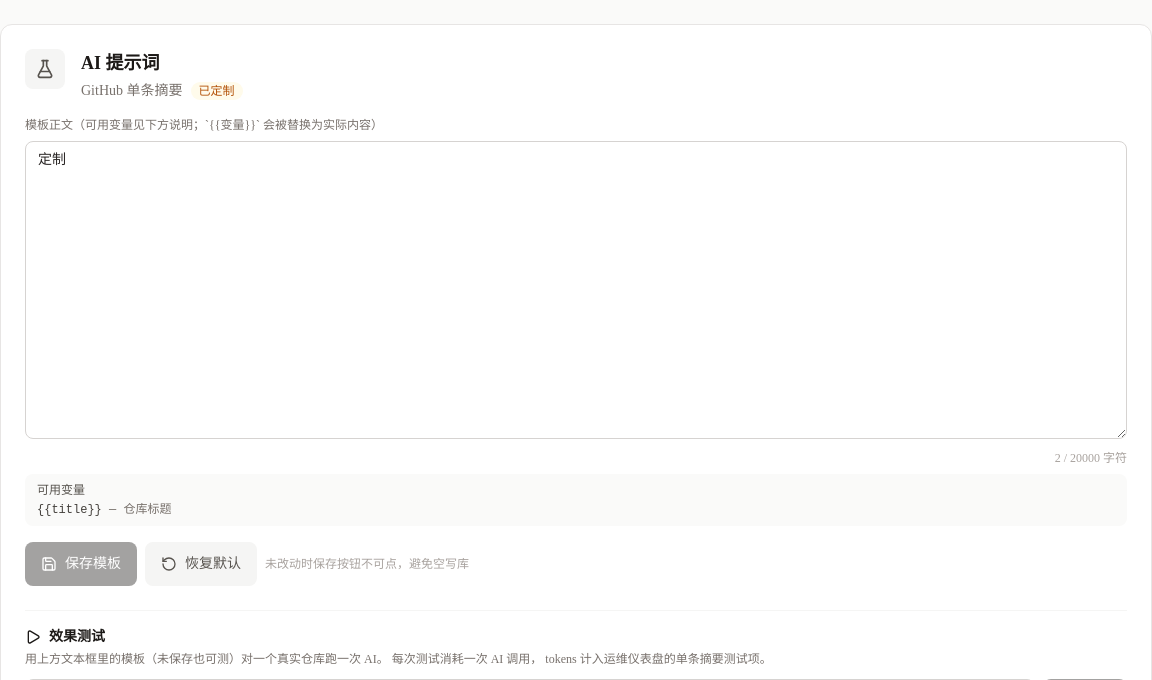
Test: PromptEditor › 已定制时可恢复默认
Click the button "恢复默认". click: {"x": 201, "y": 564}
box: left=145, top=542, right=257, bottom=586
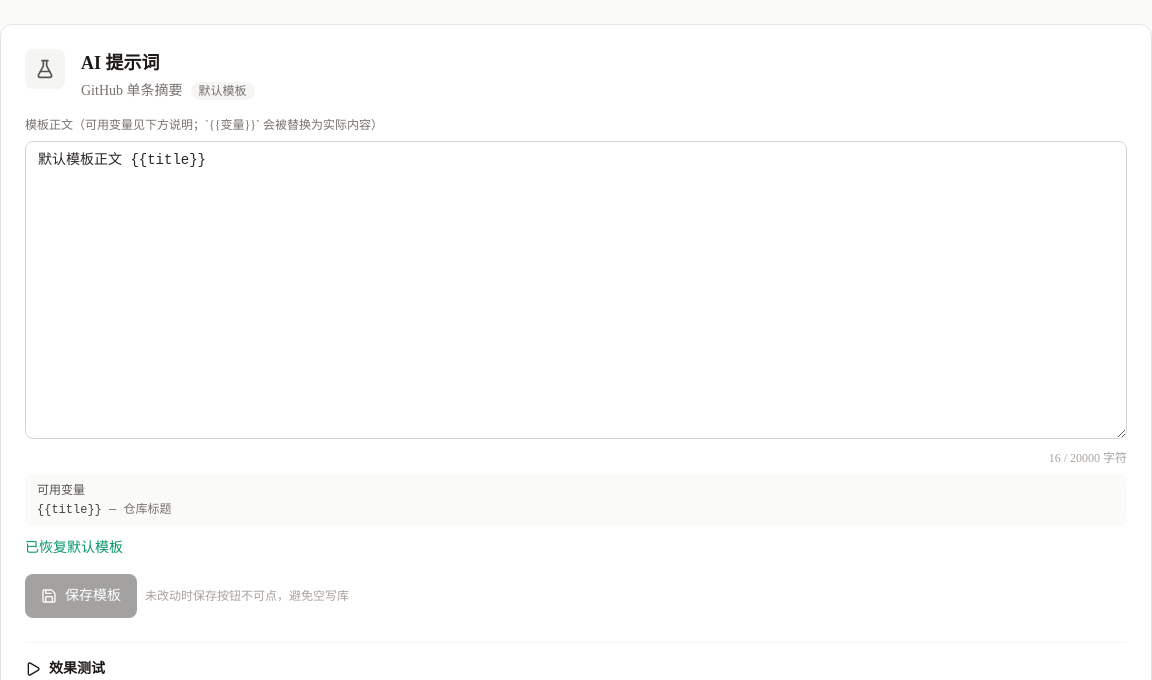
Result: the text "已恢复默认模板" is shown at left=25, top=540, right=123, bottom=555
